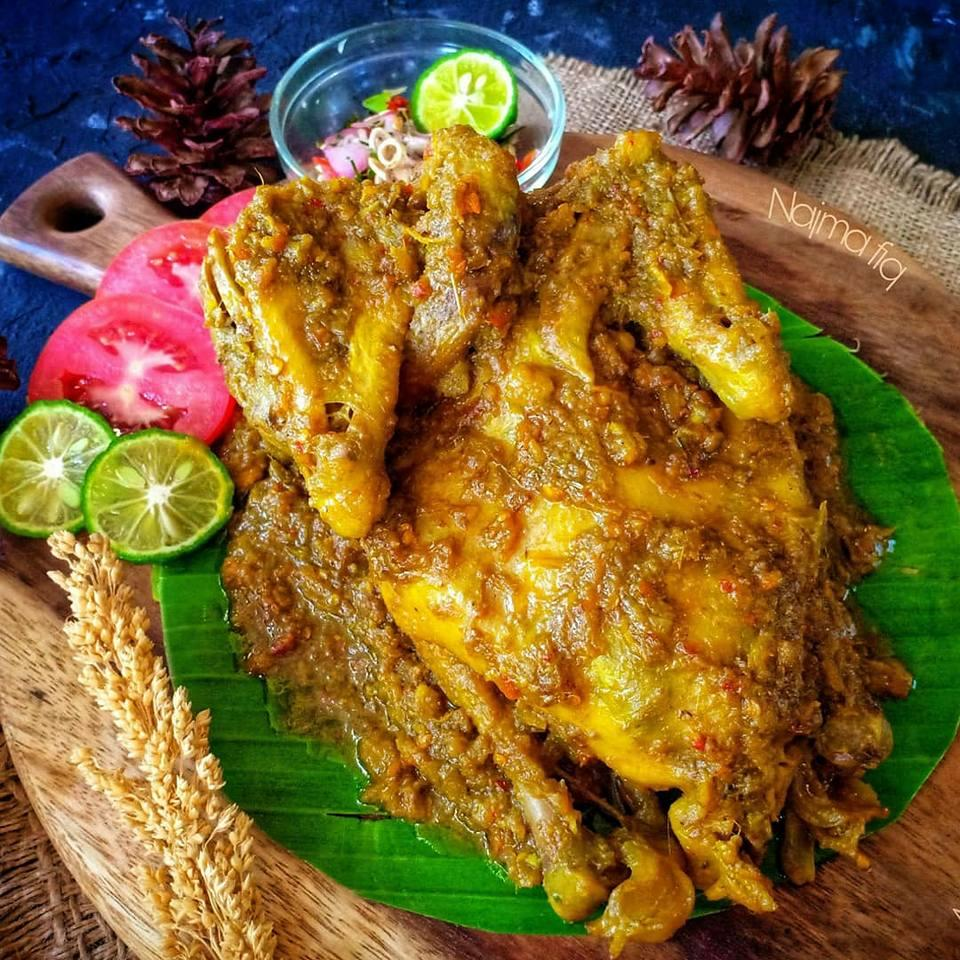ayam_betutu: (201, 129, 913, 947)
